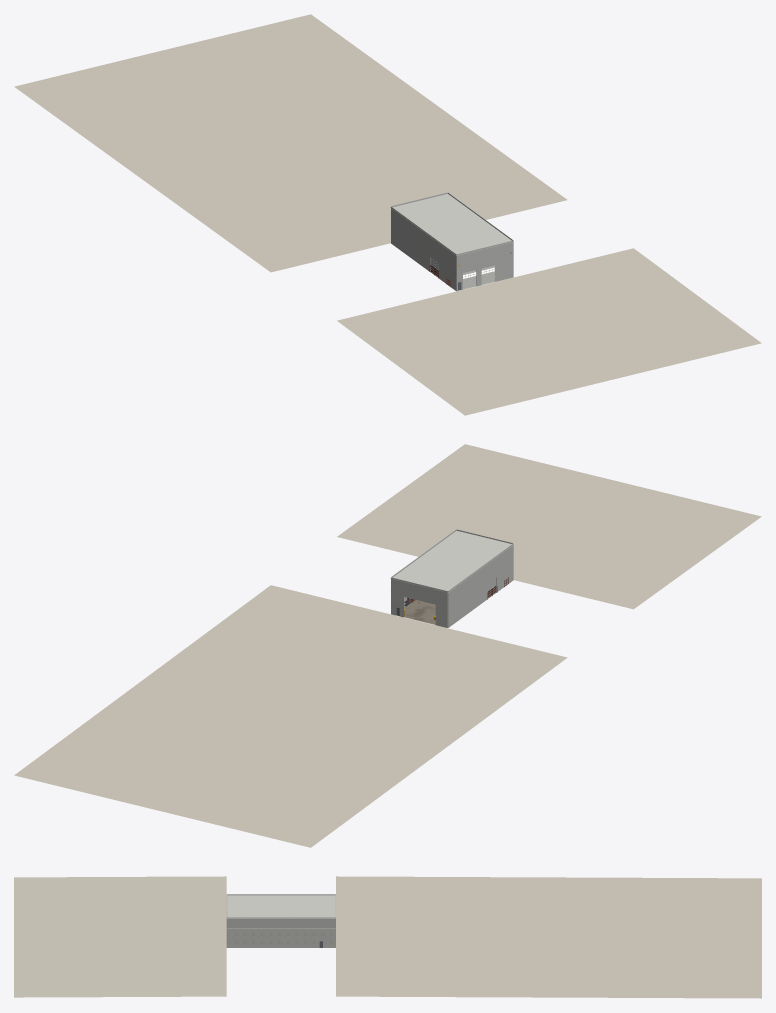
File: world.glb
3 renders of one model, top to bottom at view 1: azimuth 30°, elevation 25°; view 2: azimuth 150°, elevation 25°; view 3: azimuth 270°, elevation 25°, orthographic. The views are drawn at different scales.
Visible parts, largest first — view 1: Yard, YardSouth, Walls_Liner, RoofDeck; view 2: Yard, YardSouth, Walls_Liner, RoofDeck; view 3: Yard, YardSouth, RoofDeck, Wall_Block, Walls_Liner.
Part boxes in pixels (x1,y1,x2,y2): Yard: (14, 14, 567, 272); YardSouth: (337, 248, 761, 415); Walls_Liner: (391, 192, 513, 291); RoofDeck: (390, 194, 513, 255); Yard: (14, 585, 567, 847); YardSouth: (337, 444, 761, 609); Walls_Liner: (391, 529, 513, 627); RoofDeck: (390, 530, 513, 592); Yard: (336, 876, 761, 998); YardSouth: (14, 876, 226, 997); RoofDeck: (226, 895, 335, 918); Wall_Block: (227, 928, 335, 947); Walls_Liner: (226, 894, 335, 947).
Bounding box in the file's own units: 80 × 10.1 × 210.
80 materials, 29 textured.
